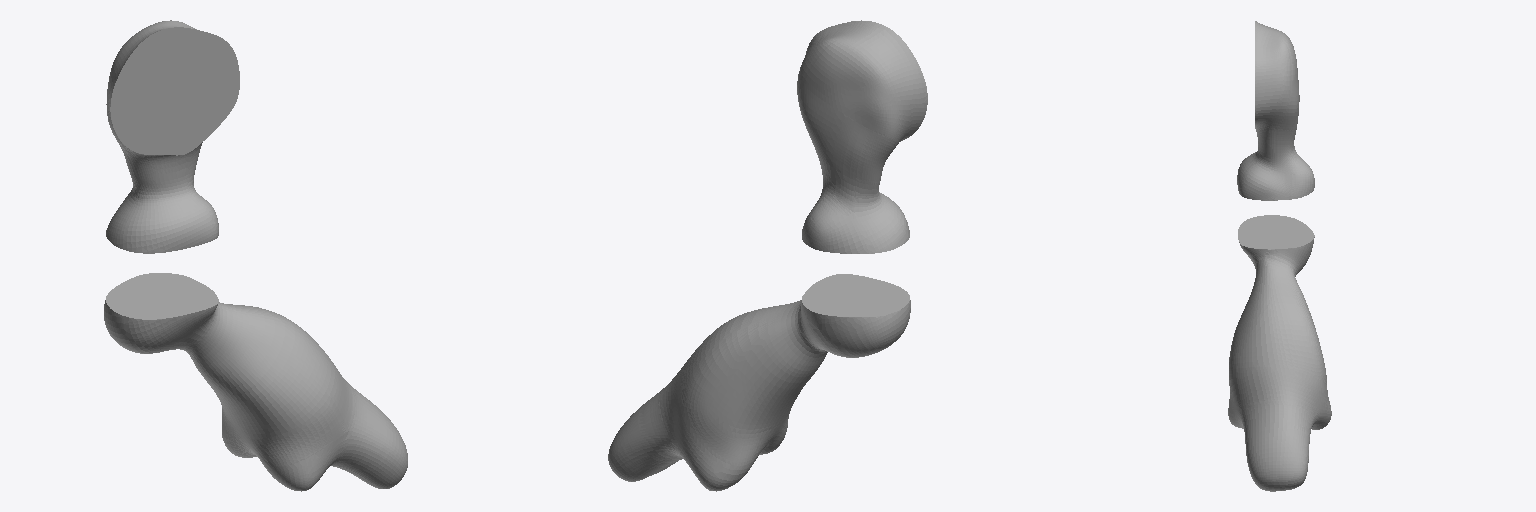
URDF robot description (RobotDog):
<?xml version="1.0" ?>
<robot name="RobotDog">

<material name="silver">
  <color rgba="0.700 0.700 0.700 1.000"/>
</material>

<link name="base_link">
  <inertial>
    <origin xyz="0 0 0" rpy="0 0 0"/>
    <mass value="4.944006724025301"/>
    <inertia ixx="0.013068633825971874" iyy="0.08803654740619468" izz="0.08484521533790042" ixy="0.0006569205050025995" iyz="0.00011903767920557932" ixz="-0.0043542158516784914"/>
  </inertial>
  <visual>
    <origin xyz="0 0 0" rpy="0 0 0"/>
    <geometry>
      <mesh filename="meshes/base_link.stl" scale="0.001 0.001 0.001"/>
    </geometry>
    <material name="silver"/>
  </visual>
  <collision>
    <origin xyz="0 0 0" rpy="0 0 0"/>
    <geometry>
      <mesh filename="meshes/base_link.stl" scale="0.001 0.001 0.001"/>
    </geometry>
  </collision>
</link>

<link name="leg1_1">
  <inertial>
    <origin xyz="-0.108728 -0.086125 -0.03886" rpy="0 0 0"/>
    <mass value="0.17635098126357945"/>
    <inertia ixx="0.000257556307641411" iyy="0.00028355988220532796" izz="6.1658515570529e-05" ixy="-6.905459371550973e-07" iyz="3.2422216219538146e-06" ixz="-7.962671147490857e-07"/>
  </inertial>
  <visual>
    <origin xyz="-0.108728 -0.086125 -0.03886" rpy="0 0 0"/>
    <geometry>
      <mesh filename="meshes/leg1_1.stl" scale="0.001 0.001 0.001"/>
    </geometry>
    <material name="silver"/>
  </visual>
  <collision>
    <origin xyz="-0.108728 -0.086125 -0.03886" rpy="0 0 0"/>
    <geometry>
      <mesh filename="meshes/leg1_1.stl" scale="0.001 0.001 0.001"/>
    </geometry>
  </collision>
</link>

<link name="leg2_1">
  <inertial>
    <origin xyz="0.134347 -0.086125 -0.038955" rpy="0 0 0"/>
    <mass value="0.21988900237553521"/>
    <inertia ixx="0.0003018868901724604" iyy="0.0003380556945018279" izz="9.913911461792435e-05" ixy="2.6722106544782402e-06" iyz="2.9804497865372492e-05" ixz="-1.261715126454427e-05"/>
  </inertial>
  <visual>
    <origin xyz="0.134347 -0.086125 -0.038955" rpy="0 0 0"/>
    <geometry>
      <mesh filename="meshes/leg2_1.stl" scale="0.001 0.001 0.001"/>
    </geometry>
    <material name="silver"/>
  </visual>
  <collision>
    <origin xyz="0.134347 -0.086125 -0.038955" rpy="0 0 0"/>
    <geometry>
      <mesh filename="meshes/leg2_1.stl" scale="0.001 0.001 0.001"/>
    </geometry>
  </collision>
</link>

<link name="leg3_1">
  <inertial>
    <origin xyz="-0.102253 0.086125 -0.041624" rpy="0 0 0"/>
    <mass value="0.2124436301601684"/>
    <inertia ixx="0.0003038108229708645" iyy="0.00033477478704116307" izz="8.903877790008945e-05" ixy="5.563117812332902e-07" iyz="-2.6244416624227062e-05" ixz="4.740653695237845e-06"/>
  </inertial>
  <visual>
    <origin xyz="-0.102253 0.086125 -0.041624" rpy="0 0 0"/>
    <geometry>
      <mesh filename="meshes/leg3_1.stl" scale="0.001 0.001 0.001"/>
    </geometry>
    <material name="silver"/>
  </visual>
  <collision>
    <origin xyz="-0.102253 0.086125 -0.041624" rpy="0 0 0"/>
    <geometry>
      <mesh filename="meshes/leg3_1.stl" scale="0.001 0.001 0.001"/>
    </geometry>
  </collision>
</link>

<link name="leg4_1">
  <inertial>
    <origin xyz="0.144982 0.086125 -0.03761" rpy="0 0 0"/>
    <mass value="0.16803507345033536"/>
    <inertia ixx="0.000233135738970644" iyy="0.0002578698077087406" izz="5.632356757126998e-05" ixy="-2.878202624615432e-07" iyz="-7.351883954747186e-06" ixz="8.312906133240068e-07"/>
  </inertial>
  <visual>
    <origin xyz="0.144982 0.086125 -0.03761" rpy="0 0 0"/>
    <geometry>
      <mesh filename="meshes/leg4_1.stl" scale="0.001 0.001 0.001"/>
    </geometry>
    <material name="silver"/>
  </visual>
  <collision>
    <origin xyz="0.144982 0.086125 -0.03761" rpy="0 0 0"/>
    <geometry>
      <mesh filename="meshes/leg4_1.stl" scale="0.001 0.001 0.001"/>
    </geometry>
  </collision>
</link>

<link name="foot1_1">
  <inertial>
    <origin xyz="-0.10802 -0.120533 0.071009" rpy="0 0 0"/>
    <mass value="0.4197478789995662"/>
    <inertia ixx="0.0006568980308908866" iyy="0.0012130802809138738" izz="0.0007654275169628605" ixy="-8.87698260668493e-06" iyz="9.84617748643439e-06" ixz="0.0005028029484198671"/>
  </inertial>
  <visual>
    <origin xyz="-0.10802 -0.120533 0.071009" rpy="0 0 0"/>
    <geometry>
      <mesh filename="meshes/foot1_1.stl" scale="0.001 0.001 0.001"/>
    </geometry>
    <material name="silver"/>
  </visual>
  <collision>
    <origin xyz="-0.10802 -0.120533 0.071009" rpy="0 0 0"/>
    <geometry>
      <mesh filename="meshes/foot1_1.stl" scale="0.001 0.001 0.001"/>
    </geometry>
  </collision>
</link>

<link name="foot2_1">
  <inertial>
    <origin xyz="0.142413 -0.132758 0.071009" rpy="0 0 0"/>
    <mass value="0.4725136412635692"/>
    <inertia ixx="0.0008942612498513448" iyy="0.0014362796619221269" izz="0.0007738208937411832" ixy="2.588853288451945e-05" iyz="3.0022624916269114e-05" ixz="-0.0004468415567392796"/>
  </inertial>
  <visual>
    <origin xyz="0.142413 -0.132758 0.071009" rpy="0 0 0"/>
    <geometry>
      <mesh filename="meshes/foot2_1.stl" scale="0.001 0.001 0.001"/>
    </geometry>
    <material name="silver"/>
  </visual>
  <collision>
    <origin xyz="0.142413 -0.132758 0.071009" rpy="0 0 0"/>
    <geometry>
      <mesh filename="meshes/foot2_1.stl" scale="0.001 0.001 0.001"/>
    </geometry>
  </collision>
</link>

<link name="foot3_1">
  <inertial>
    <origin xyz="-0.103793 0.131521 0.071009" rpy="0 0 0"/>
    <mass value="0.39949807856162617"/>
    <inertia ixx="0.0005587831898407856" iyy="0.0010518776327046592" izz="0.0006940924676289636" ixy="1.203976673111104e-05" iyz="-1.1540259697797109e-05" ixz="0.0004252328517385783"/>
  </inertial>
  <visual>
    <origin xyz="-0.103793 0.131521 0.071009" rpy="0 0 0"/>
    <geometry>
      <mesh filename="meshes/foot3_1.stl" scale="0.001 0.001 0.001"/>
    </geometry>
    <material name="silver"/>
  </visual>
  <collision>
    <origin xyz="-0.103793 0.131521 0.071009" rpy="0 0 0"/>
    <geometry>
      <mesh filename="meshes/foot3_1.stl" scale="0.001 0.001 0.001"/>
    </geometry>
  </collision>
</link>

<link name="foot4_1">
  <inertial>
    <origin xyz="0.143602 0.121679 0.071009" rpy="0 0 0"/>
    <mass value="0.47989575308955273"/>
    <inertia ixx="0.0009695943456060965" iyy="0.001553049212715145" izz="0.00081337999067424" ixy="1.2974184452859902e-05" iyz="1.5042560526416782e-05" ixz="-0.0005143394400318052"/>
  </inertial>
  <visual>
    <origin xyz="0.143602 0.121679 0.071009" rpy="0 0 0"/>
    <geometry>
      <mesh filename="meshes/foot4_1.stl" scale="0.001 0.001 0.001"/>
    </geometry>
    <material name="silver"/>
  </visual>
  <collision>
    <origin xyz="0.143602 0.121679 0.071009" rpy="0 0 0"/>
    <geometry>
      <mesh filename="meshes/foot4_1.stl" scale="0.001 0.001 0.001"/>
    </geometry>
  </collision>
</link>

<joint name="Revolute 1" type="revolute">
  <origin xyz="0.108728 0.086125 0.03886" rpy="0 0 0"/>
  <parent link="base_link"/>
  <child link="leg1_1"/>
  <axis xyz="1.0 0.0 0.0"/>
  <limit upper="0.0" lower="0.0" effort="3.8" velocity="5.4"/>
</joint>
<transmission name="Revolute 1_tran">
  <type>transmission_interface/SimpleTransmission</type>
  <joint name="Revolute 1">
    <hardwareInterface>PositionJointInterface</hardwareInterface>
  </joint>
  <actuator name="Revolute 1_actr">
    <hardwareInterface>PositionJointInterface</hardwareInterface>
    <mechanicalReduction>1</mechanicalReduction>
  </actuator>
</transmission>

<joint name="Revolute 2" type="revolute">
  <origin xyz="-0.134347 0.086125 0.038955" rpy="0 0 0"/>
  <parent link="base_link"/>
  <child link="leg2_1"/>
  <axis xyz="1.0 0.0 0.0"/>
  <limit upper="0.0" lower="0.0" effort="3.8" velocity="5.4"/>
</joint>
<transmission name="Revolute 2_tran">
  <type>transmission_interface/SimpleTransmission</type>
  <joint name="Revolute 2">
    <hardwareInterface>PositionJointInterface</hardwareInterface>
  </joint>
  <actuator name="Revolute 2_actr">
    <hardwareInterface>PositionJointInterface</hardwareInterface>
    <mechanicalReduction>1</mechanicalReduction>
  </actuator>
</transmission>

<joint name="Revolute 3" type="revolute">
  <origin xyz="0.102253 -0.086125 0.041624" rpy="0 0 0"/>
  <parent link="base_link"/>
  <child link="leg3_1"/>
  <axis xyz="1.0 0.0 0.0"/>
  <limit upper="0.0" lower="0.0" effort="3.8" velocity="5.4"/>
</joint>
<transmission name="Revolute 3_tran">
  <type>transmission_interface/SimpleTransmission</type>
  <joint name="Revolute 3">
    <hardwareInterface>PositionJointInterface</hardwareInterface>
  </joint>
  <actuator name="Revolute 3_actr">
    <hardwareInterface>PositionJointInterface</hardwareInterface>
    <mechanicalReduction>1</mechanicalReduction>
  </actuator>
</transmission>

<joint name="Revolute 4" type="revolute">
  <origin xyz="-0.144982 -0.086125 0.03761" rpy="0 0 0"/>
  <parent link="base_link"/>
  <child link="leg4_1"/>
  <axis xyz="1.0 0.0 0.0"/>
  <limit upper="0.0" lower="0.0" effort="3.8" velocity="5.4"/>
</joint>
<transmission name="Revolute 4_tran">
  <type>transmission_interface/SimpleTransmission</type>
  <joint name="Revolute 4">
    <hardwareInterface>PositionJointInterface</hardwareInterface>
  </joint>
  <actuator name="Revolute 4_actr">
    <hardwareInterface>PositionJointInterface</hardwareInterface>
    <mechanicalReduction>1</mechanicalReduction>
  </actuator>
</transmission>

<joint name="Revolute 5" type="revolute">
  <origin xyz="-0.000708 0.034408 -0.109869" rpy="0 0 0"/>
  <parent link="leg1_1"/>
  <child link="foot1_1"/>
  <axis xyz="0.0 1.0 0.0"/>
  <limit upper="0.0" lower="0.0" effort="3.8" velocity="5.4"/>
</joint>
<transmission name="Revolute 5_tran">
  <type>transmission_interface/SimpleTransmission</type>
  <joint name="Revolute 5">
    <hardwareInterface>PositionJointInterface</hardwareInterface>
  </joint>
  <actuator name="Revolute 5_actr">
    <hardwareInterface>PositionJointInterface</hardwareInterface>
    <mechanicalReduction>1</mechanicalReduction>
  </actuator>
</transmission>

<joint name="Revolute 6" type="revolute">
  <origin xyz="-0.008066 0.046633 -0.109964" rpy="0 0 0"/>
  <parent link="leg2_1"/>
  <child link="foot2_1"/>
  <axis xyz="0.0 1.0 0.0"/>
  <limit upper="0.0" lower="0.0" effort="3.8" velocity="5.4"/>
</joint>
<transmission name="Revolute 6_tran">
  <type>transmission_interface/SimpleTransmission</type>
  <joint name="Revolute 6">
    <hardwareInterface>PositionJointInterface</hardwareInterface>
  </joint>
  <actuator name="Revolute 6_actr">
    <hardwareInterface>PositionJointInterface</hardwareInterface>
    <mechanicalReduction>1</mechanicalReduction>
  </actuator>
</transmission>

<joint name="Revolute 7" type="revolute">
  <origin xyz="0.00154 -0.045396 -0.112633" rpy="0 0 0"/>
  <parent link="leg3_1"/>
  <child link="foot3_1"/>
  <axis xyz="0.0 1.0 0.0"/>
  <limit upper="0.0" lower="0.0" effort="3.8" velocity="5.4"/>
</joint>
<transmission name="Revolute 7_tran">
  <type>transmission_interface/SimpleTransmission</type>
  <joint name="Revolute 7">
    <hardwareInterface>PositionJointInterface</hardwareInterface>
  </joint>
  <actuator name="Revolute 7_actr">
    <hardwareInterface>PositionJointInterface</hardwareInterface>
    <mechanicalReduction>1</mechanicalReduction>
  </actuator>
</transmission>

<joint name="Revolute 8" type="revolute">
  <origin xyz="0.00138 -0.035554 -0.108619" rpy="0 0 0"/>
  <parent link="leg4_1"/>
  <child link="foot4_1"/>
  <axis xyz="0.0 1.0 0.0"/>
  <limit upper="0.0" lower="0.0" effort="3.8" velocity="5.4"/>
</joint>
<transmission name="Revolute 8_tran">
  <type>transmission_interface/SimpleTransmission</type>
  <joint name="Revolute 8">
    <hardwareInterface>PositionJointInterface</hardwareInterface>
  </joint>
  <actuator name="Revolute 8_actr">
    <hardwareInterface>PositionJointInterface</hardwareInterface>
    <mechanicalReduction>1</mechanicalReduction>
  </actuator>
</transmission>

</robot>

--- What the picture shows (computed from the rendered views, not written in the file) ---
The picture shows the robot from 3 angles, left to right: view 1: azimuth 30°, elevation 25°; view 2: azimuth 150°, elevation 25°; view 3: azimuth 270°, elevation 25°; orthographic projection.
Model RobotDog with 9 links and 8 joints (8 revolute), rooted at base_link, posed every joint at zero.
Visible links, largest first — view 1: foot1_1, leg1_1; view 2: foot1_1, leg1_1; view 3: foot1_1, leg1_1.
Link boxes in pixels (x1,y1,x2,y2): foot1_1: [104, 273, 407, 491]; leg1_1: [106, 20, 239, 253]; foot1_1: [608, 274, 910, 491]; leg1_1: [797, 20, 927, 253]; foot1_1: [1228, 215, 1331, 491]; leg1_1: [1237, 21, 1314, 200].
Bounding box of the posed robot: 0.1955 × 0.077 × 0.3151 m (x, y, z).
Meshes: 9 distinct files referenced, 2 mesh visuals loaded (2 binary STL); not drawn: 7 (reference not matched to a file when rendering).